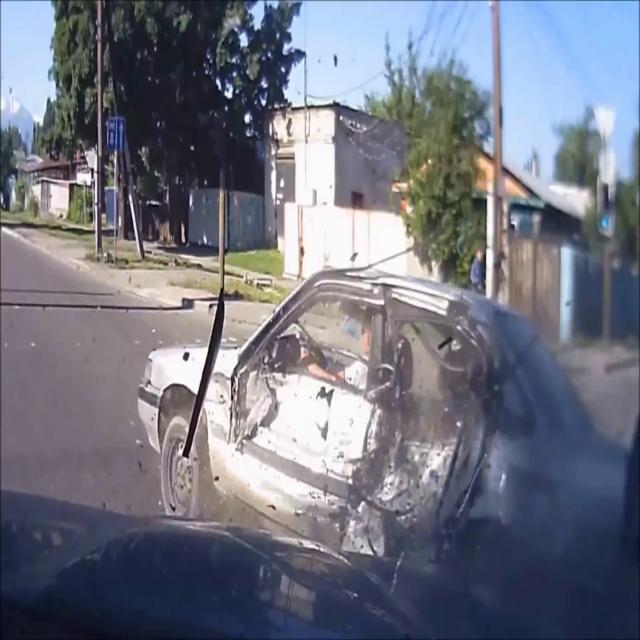accident: (153, 229, 628, 604)
